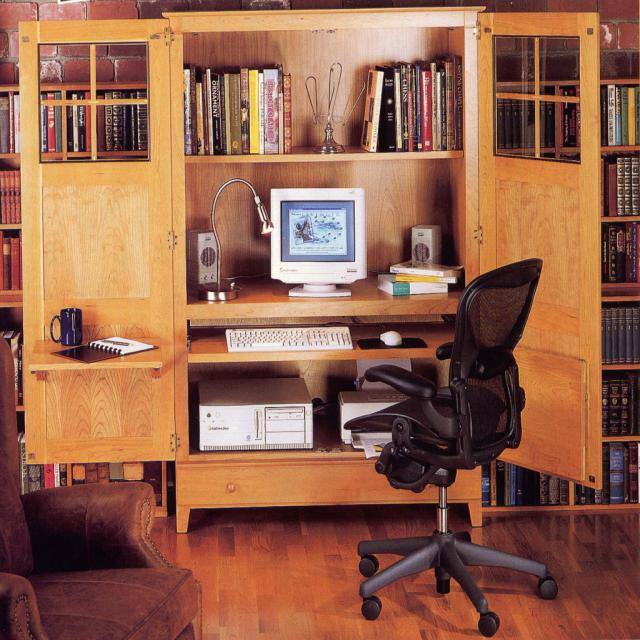armchair crop: (1, 334, 201, 639)
books crop: (479, 84, 639, 504), (362, 52, 462, 151), (184, 67, 290, 154)
bricks: (0, 1, 639, 85)
chair -occluded-: (342, 260, 552, 626)
computer: (271, 188, 364, 274)
computer crop: (198, 376, 312, 448)
cup and saucer: (50, 306, 81, 346)
floor -X: (152, 506, 638, 639)
furniture crop: (21, 5, 602, 532)
keyboard crop: (224, 328, 352, 352)
lamp crop: (198, 176, 276, 299)
mouse pad: (380, 331, 400, 345)
notebook: (52, 334, 156, 364)
speaker: (411, 225, 441, 263)
